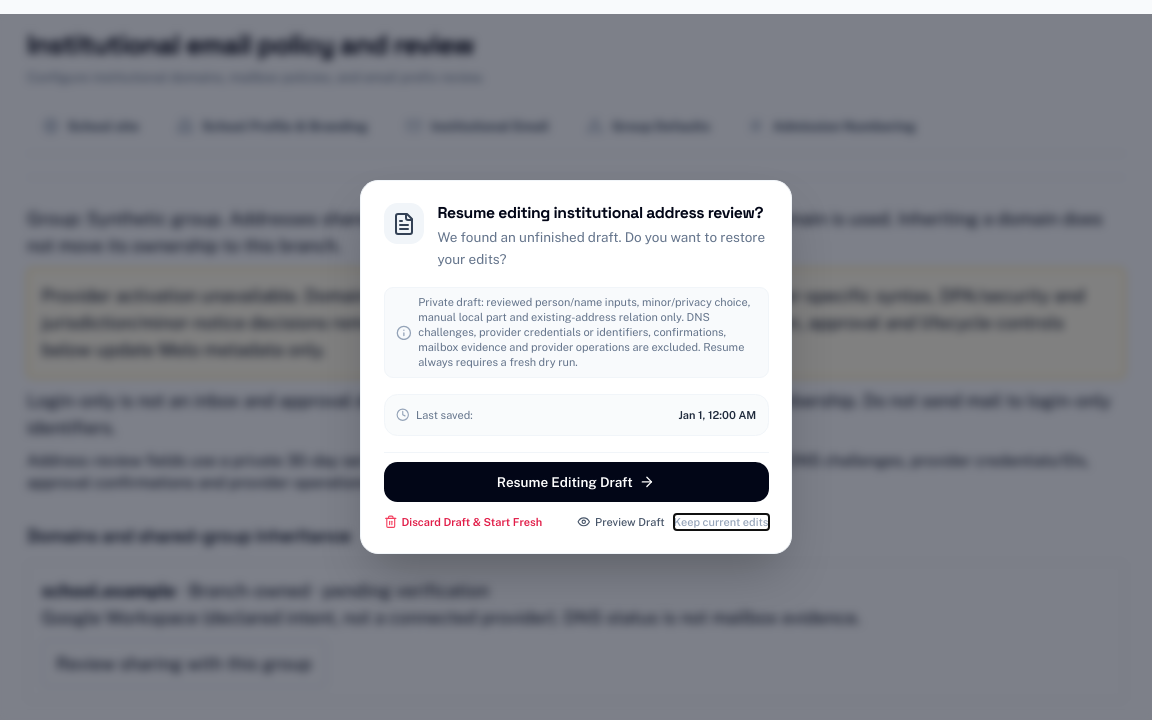
offers explicit private recovery, restores only approved fields and requires a fresh dry run
Click the button "Preview Draft" at (621, 522), box [577, 514, 665, 530]
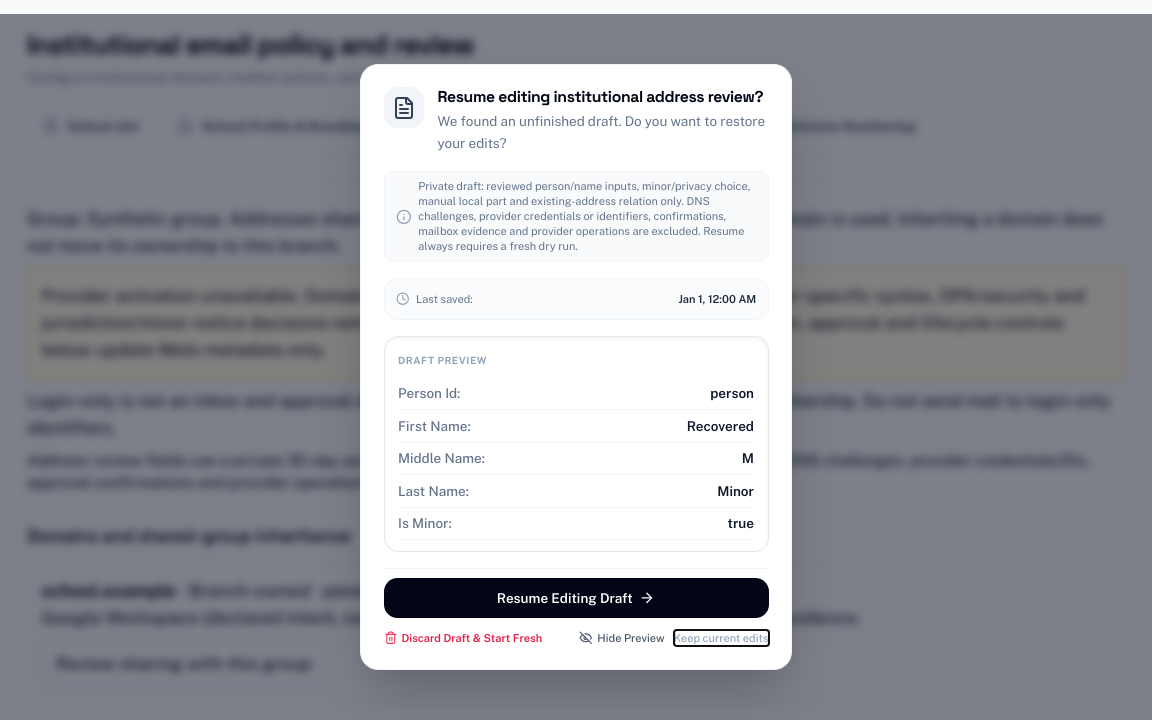
Click the button "Resume Editing Draft" at (576, 598), box [384, 578, 768, 618]
(page scrolled)
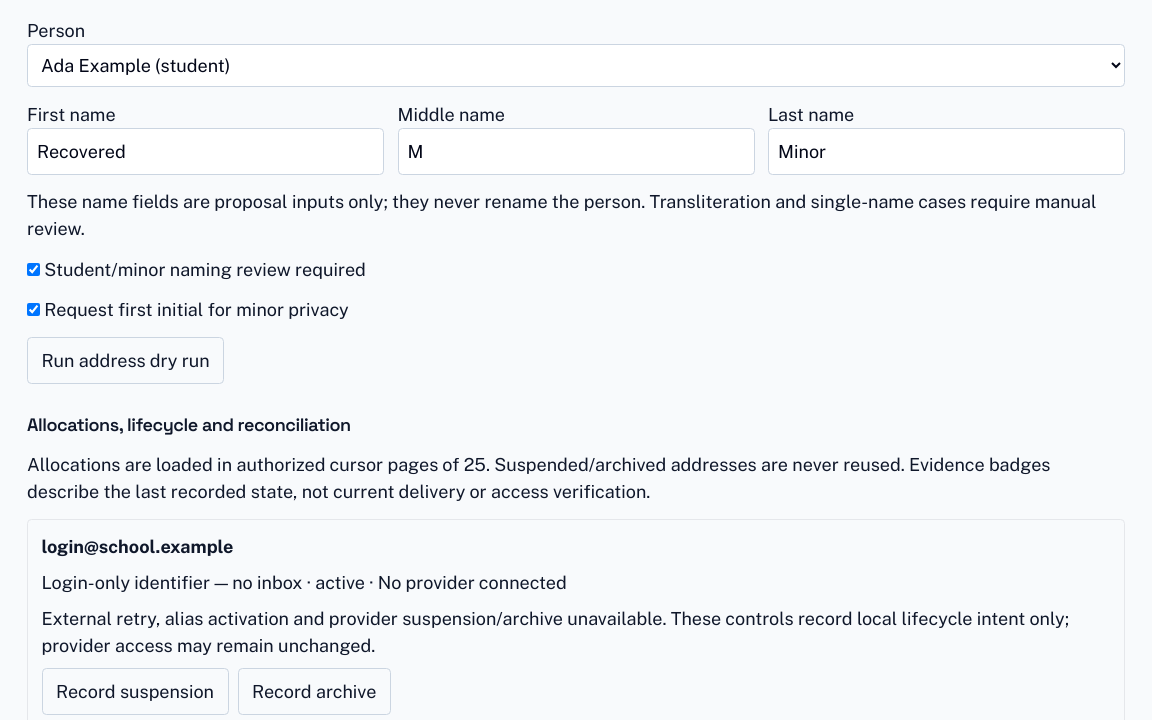
Expected: the field labelled "Review / manually edit local part" is not shown
Expected: the field labelled "First name" holds "Recovered", [27, 128, 384, 174]
Click the button "Run address dry run" at (126, 360), box [27, 336, 224, 384]
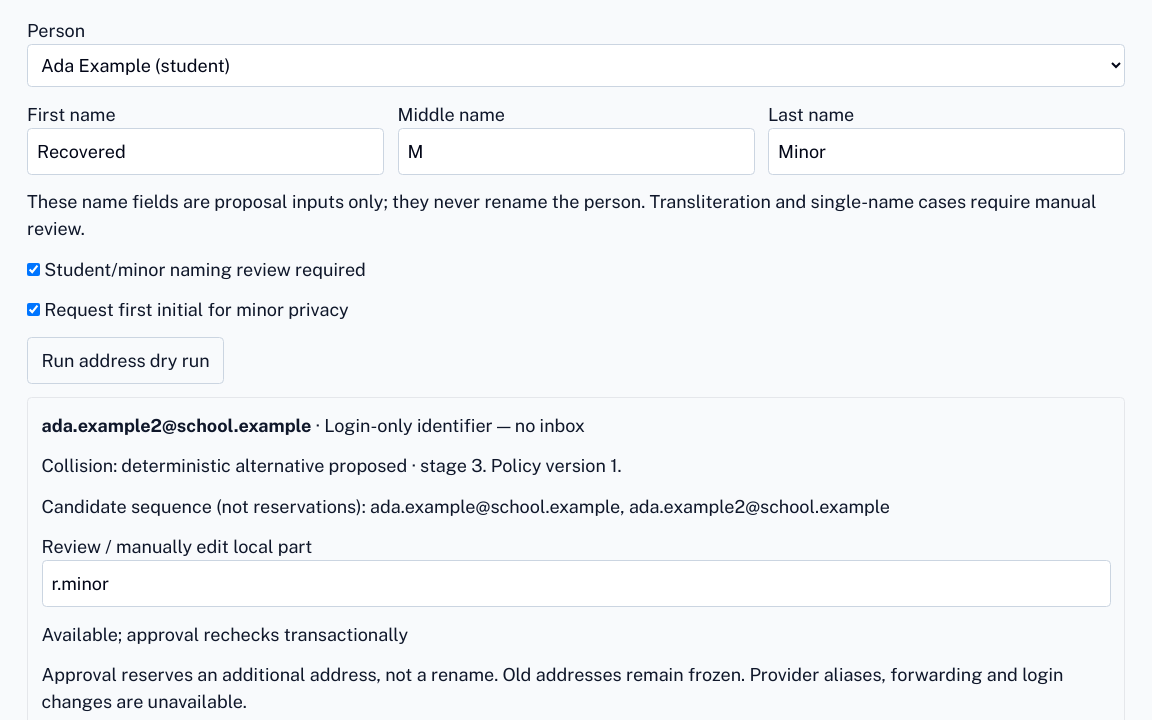
Expected: the text "Collision: deterministic alternative proposed" is shown, [42, 455, 407, 476]
Expected: the field labelled "Review / manually edit local part" holds "r.minor", [42, 560, 1110, 607]
